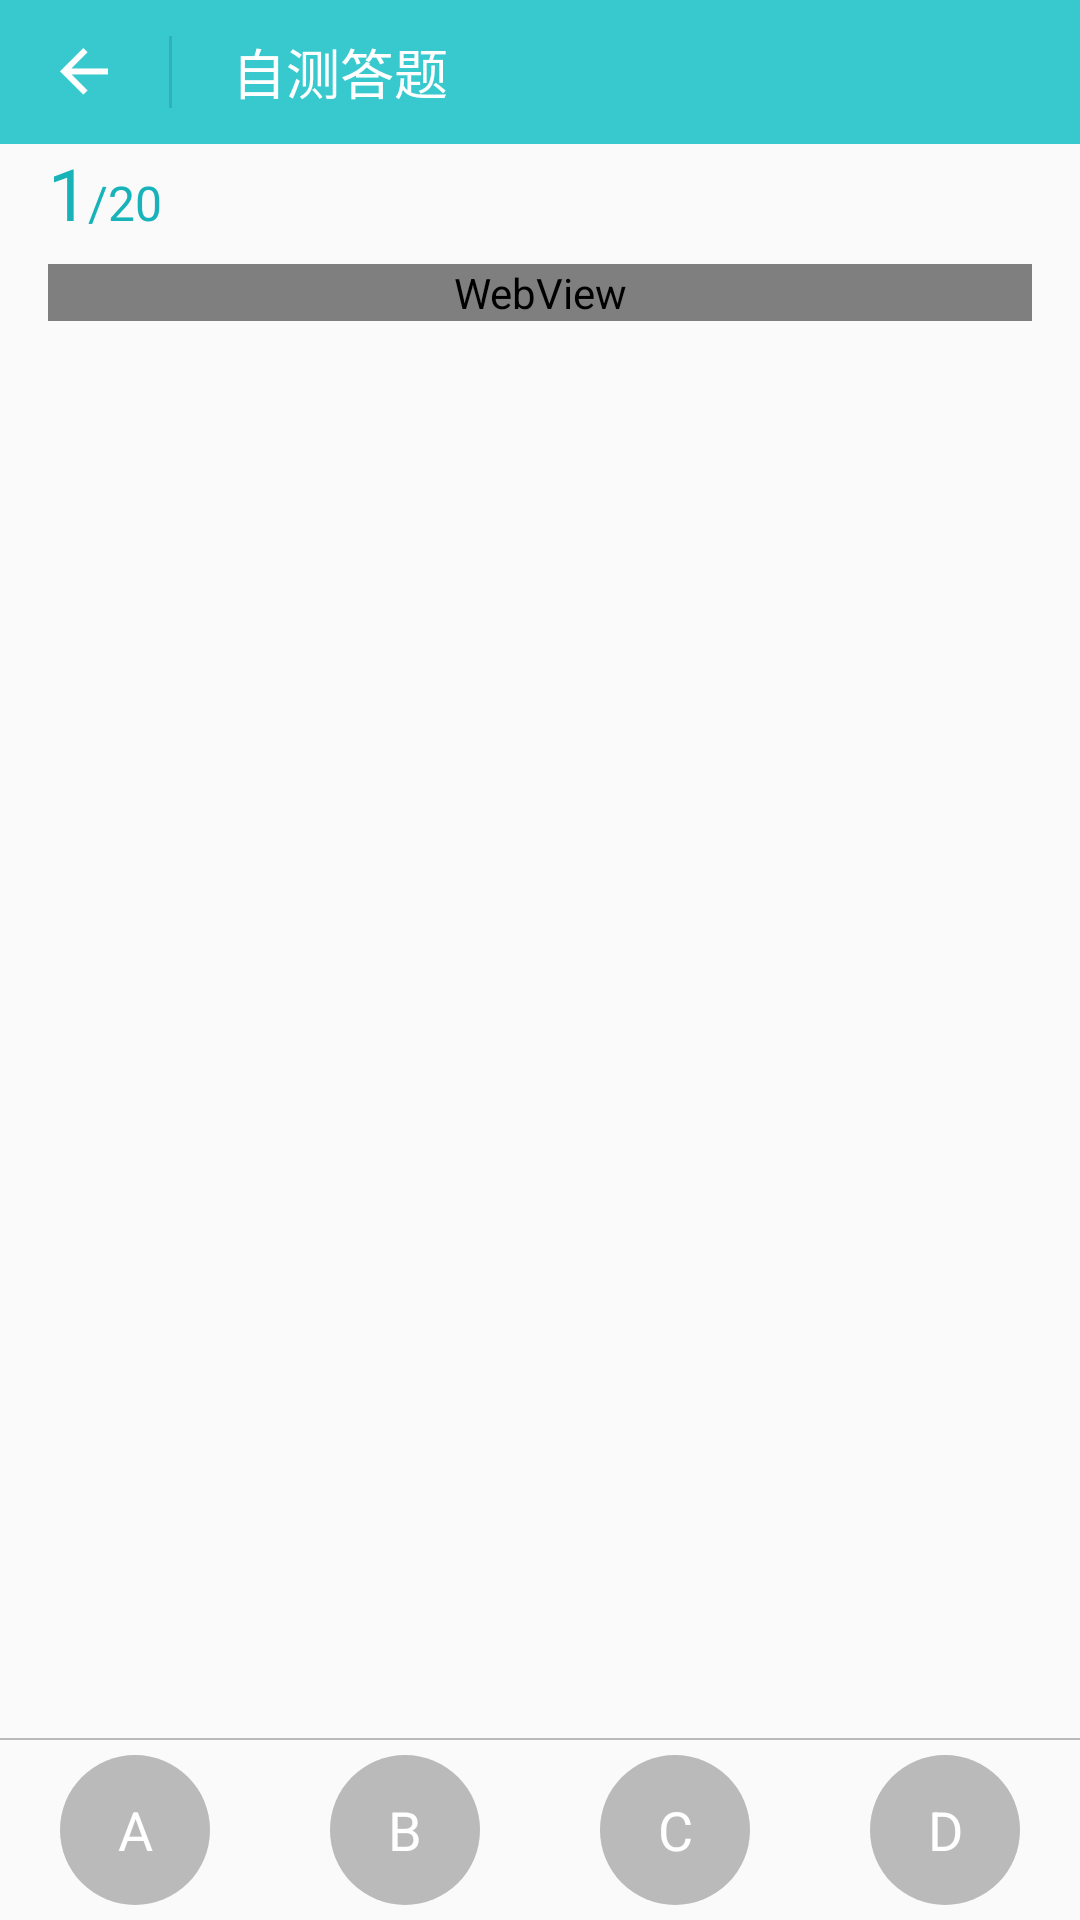

Icon bounding boxes for this 1080px x 1920px phone screenshot, format region(x1, y1, x2, y2):
exit: region(60, 48, 108, 95)
